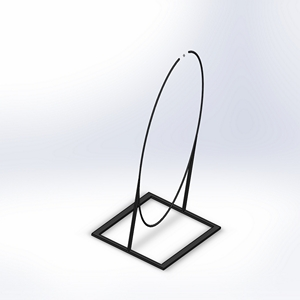circle: (90, 47, 224, 271)
